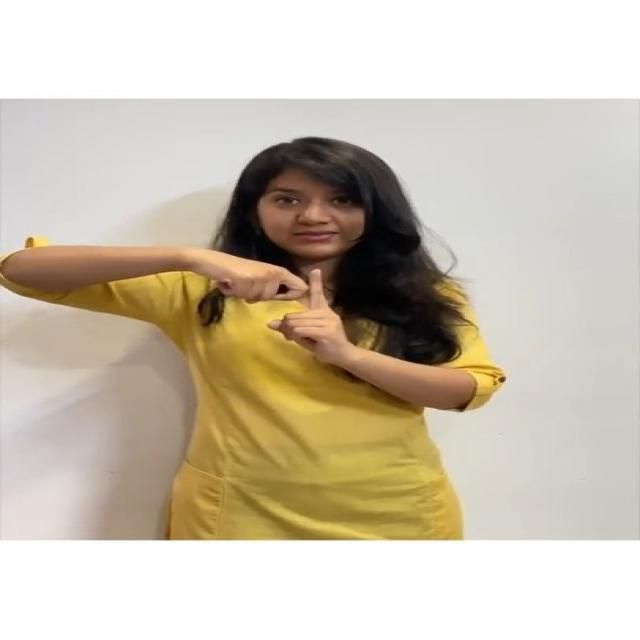K: (189, 241, 379, 379)
